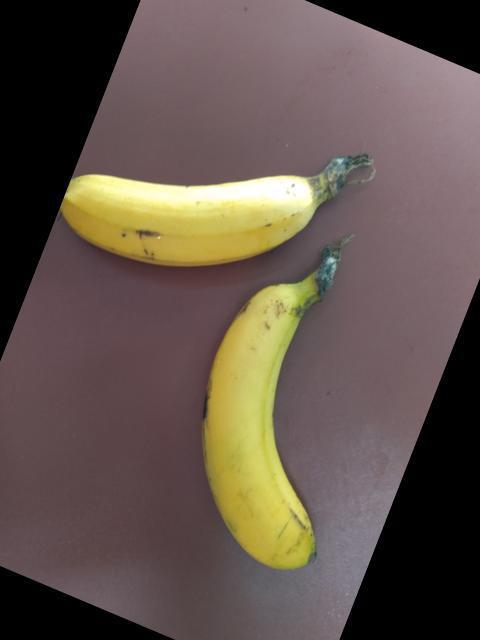freshripe: (15, 112, 344, 274), (177, 267, 323, 583)
